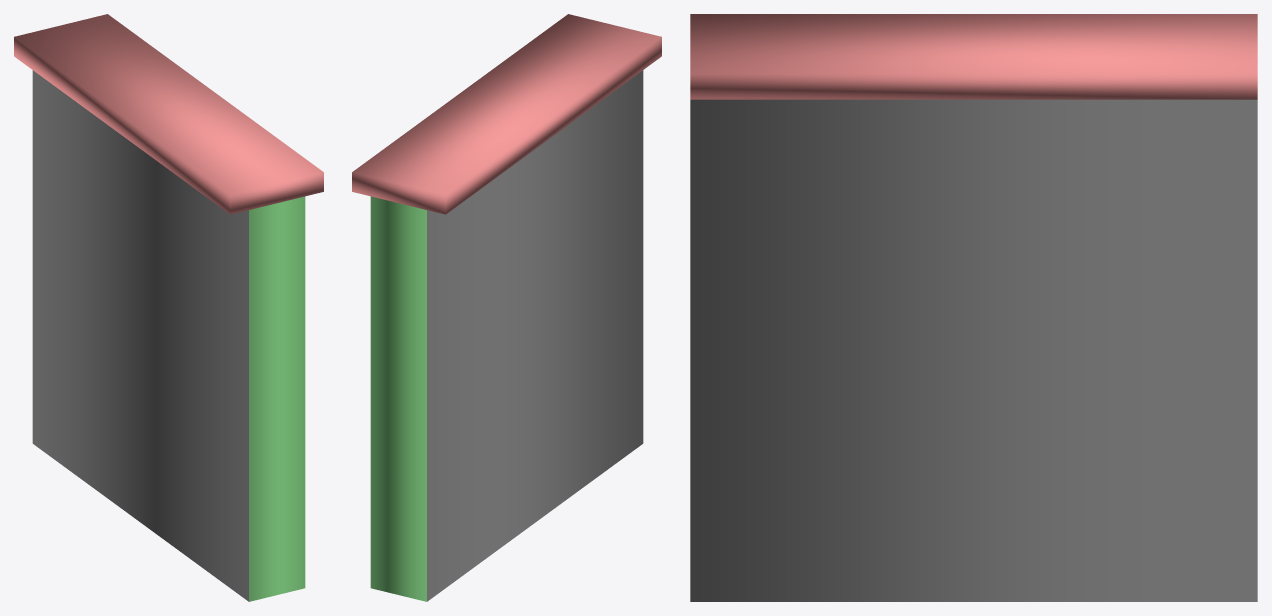
The model's file is SM_wallAttic_01_half.gltf.
The picture shows the model from 3 angles, left to right: view 1: azimuth 30°, elevation 25°; view 2: azimuth 150°, elevation 25°; view 3: azimuth 270°, elevation 25°; orthographic projection. The views are drawn at different scales.
Visible parts, largest first — view 1: SM_wallAttic_01_half; view 2: SM_wallAttic_01_half; view 3: SM_wallAttic_01_half.
Boxes of the visible parts, <box> form: SM_wallAttic_01_half: <box>14,14,323,601</box>; SM_wallAttic_01_half: <box>352,14,661,601</box>; SM_wallAttic_01_half: <box>690,14,1257,601</box>.
Bounding box in the file's own units: 0.5 × 2.1 × 2.
